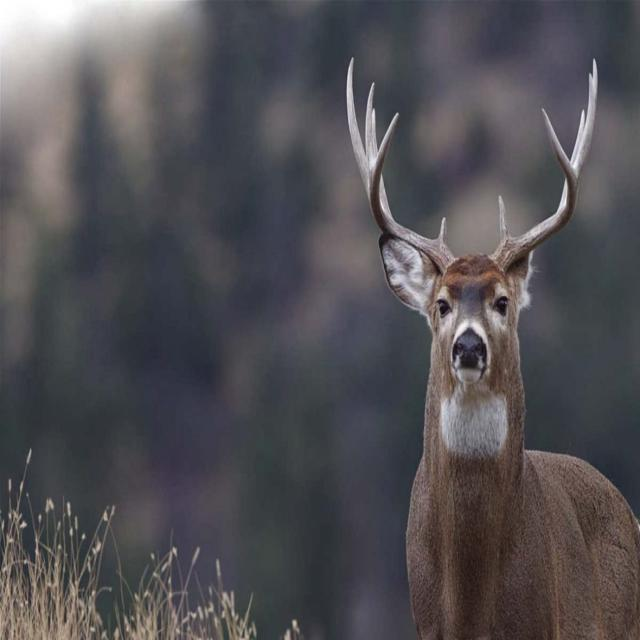deer: (348, 60, 640, 639)
